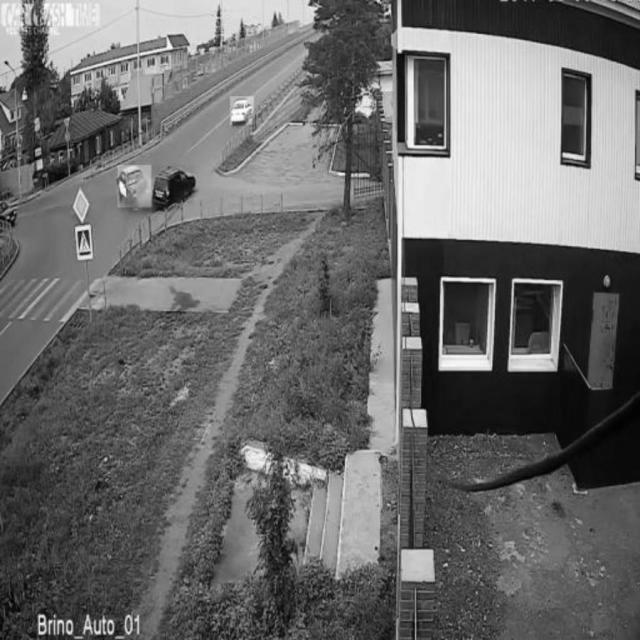vehicle: (153, 165, 195, 206), (118, 166, 152, 208), (230, 97, 254, 125)
